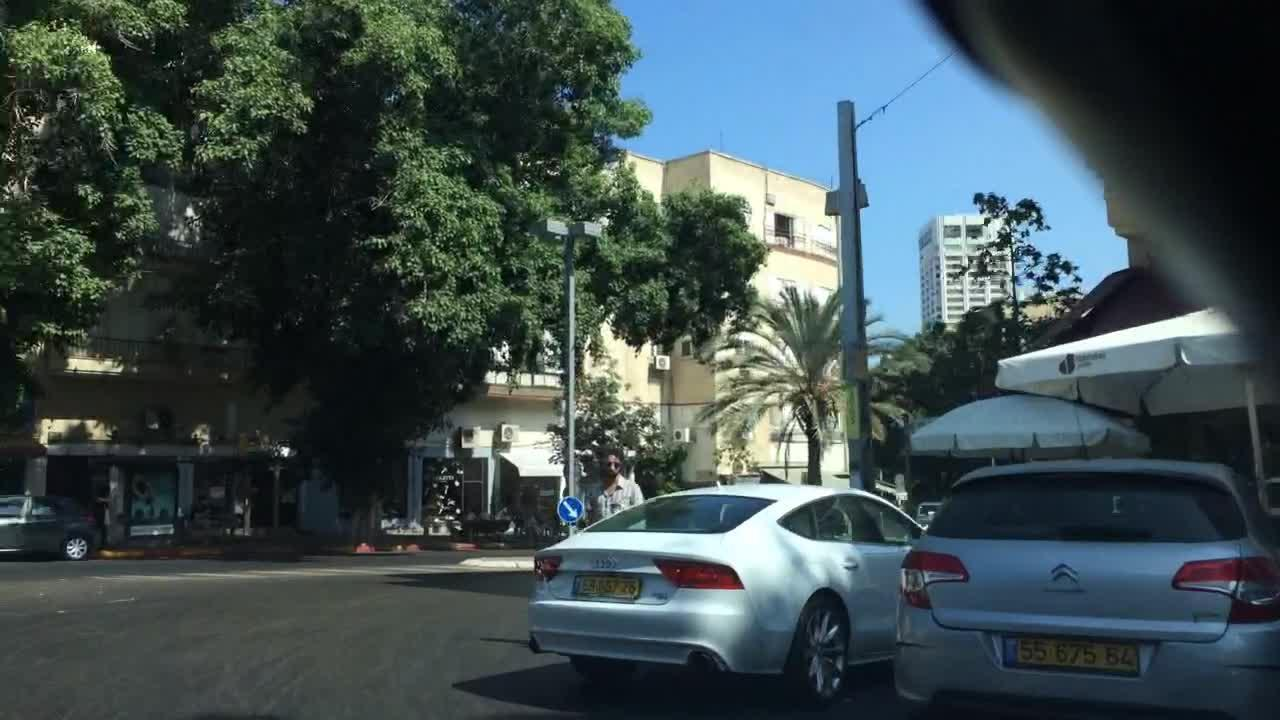Audi: (587, 554, 619, 576)
Citroen: (1041, 558, 1086, 594)
